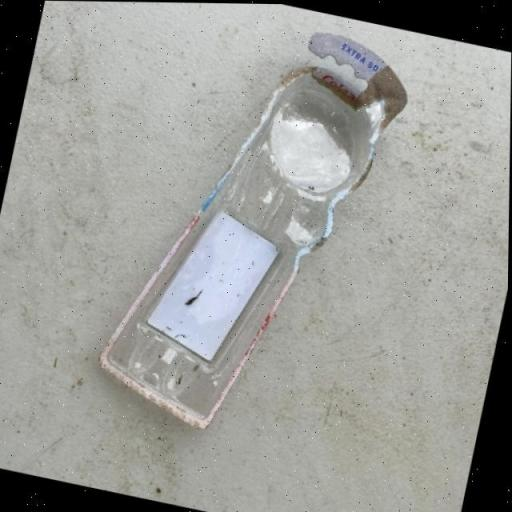plastic: (88, 4, 410, 454)
